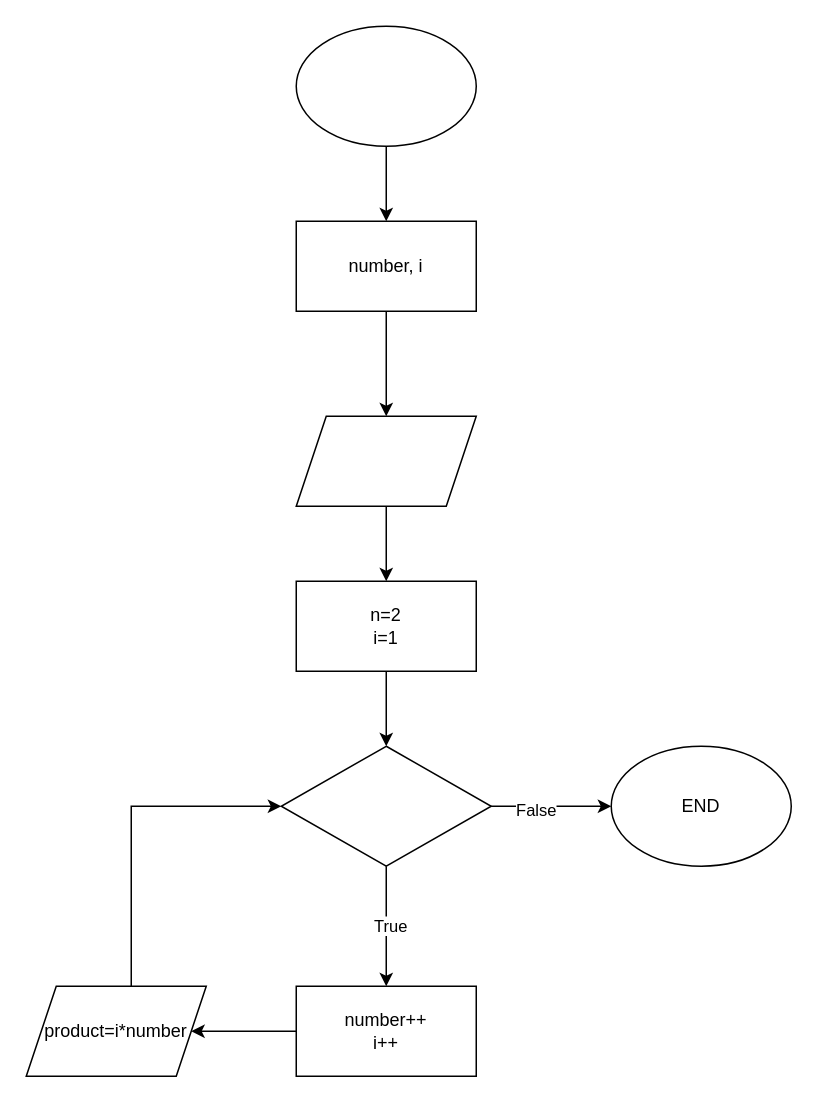
This 818x1103 diagram has some shape labels left out. Each missing label, with the centre of its shape:
n<=9 i<=10: the point at 385,805
Nhap n: the point at 385,460
start: the point at 385,85
